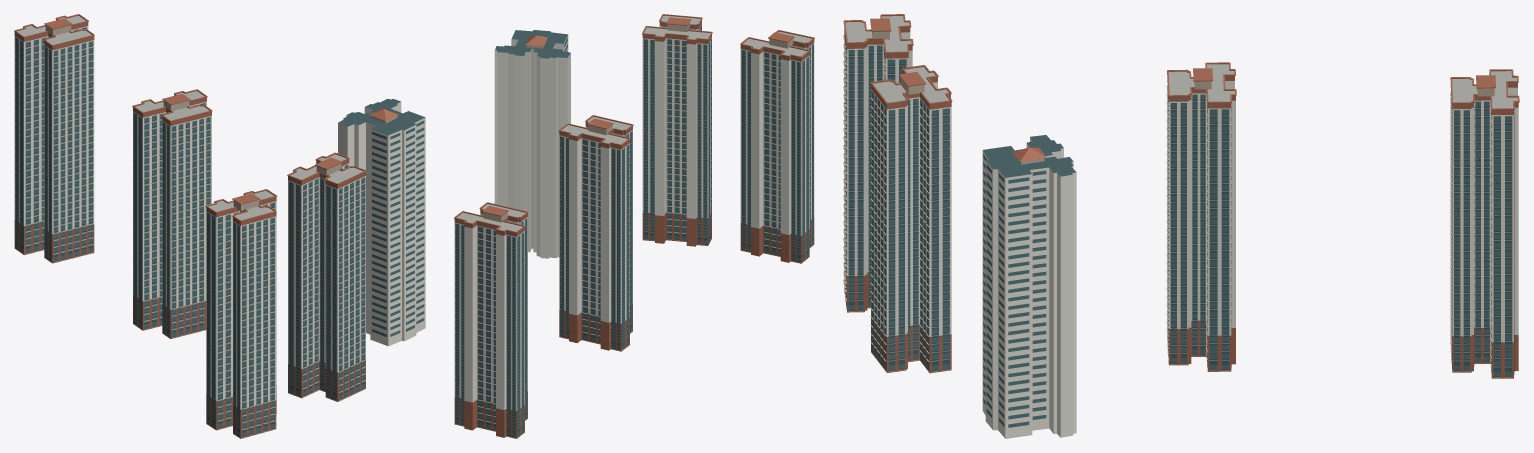
The model's file is chunk-p1-p2.glb.
3 views of the same model, side by side, from view 1: azimuth 30°, elevation 25°; view 2: azimuth 150°, elevation 25°; view 3: azimuth 270°, elevation 25° (orthographic). The views are drawn at different scales.
Visible parts, largest first — view 1: chunk-p1-p2; view 2: chunk-p1-p2; view 3: chunk-p1-p2.
Boxes of the visible parts, x1,y1,x2,y2 form: chunk-p1-p2: [14, 14, 425, 438]; chunk-p1-p2: [454, 14, 814, 438]; chunk-p1-p2: [843, 14, 1519, 438].
Bounding box in the file's own units: 120 × 108 × 218.
Materials: 6 (3 with a texture image).
